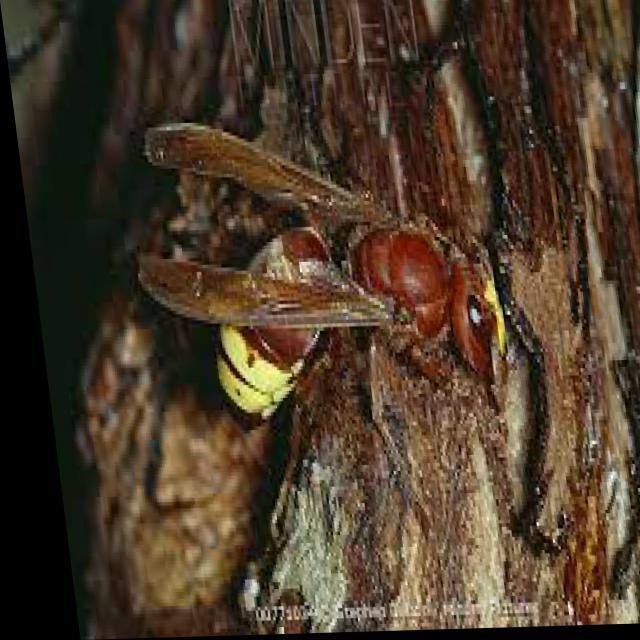Vespa Orientalis: (89, 85, 543, 503)
